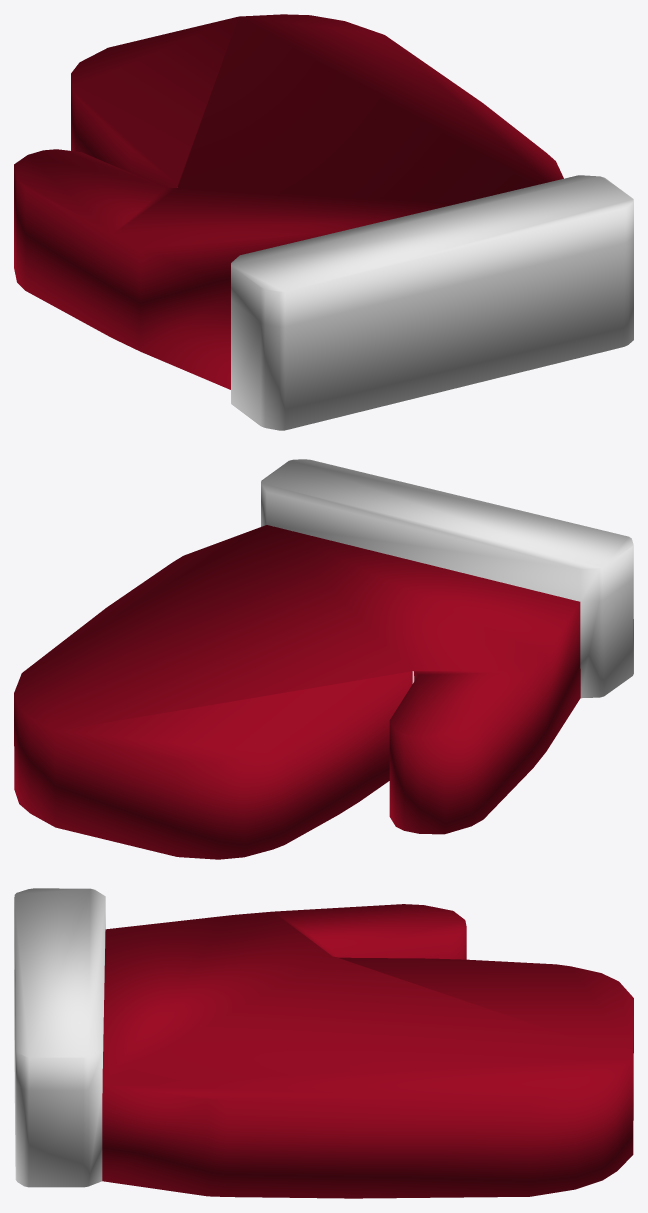
File: next.glb
The picture shows the model from 3 angles, top to bottom: view 1: azimuth 30°, elevation 25°; view 2: azimuth 150°, elevation 25°; view 3: azimuth 270°, elevation 25°; orthographic projection. The views are drawn at different scales.
Visible parts, largest first — view 1: Circle.005; view 2: Circle.005; view 3: Circle.005.
Boxes of the visible parts, <box> form: Circle.005: <box>14,14,633,430</box>; Circle.005: <box>14,459,633,859</box>; Circle.005: <box>14,888,633,1198</box>.
Bounding box in the file's own units: 0.9229 × 0.2855 × 1.23.
